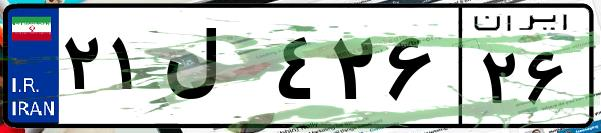1: (110, 28, 158, 98)
2: (330, 28, 385, 110), (57, 26, 110, 100), (475, 38, 525, 113)
4: (270, 28, 330, 110)
6: (385, 28, 445, 110), (525, 38, 570, 115)
ل: (158, 20, 270, 120)
